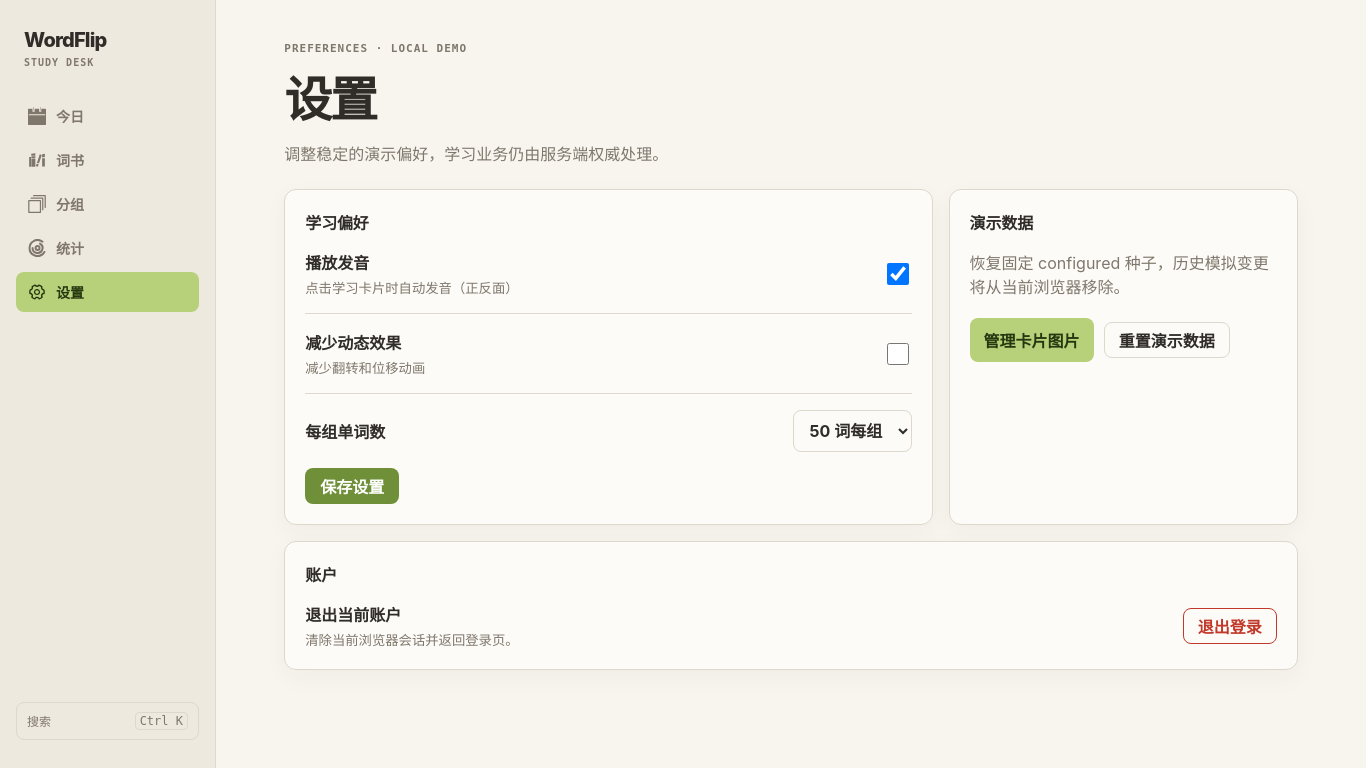
Test: 设置 › 明确确认后恢复 126、清除当前变更并导航今日
The width and height of the screenshot is (1366, 768).
Click the button "重置演示数据": (1167, 340) [1104,322,1230,358]
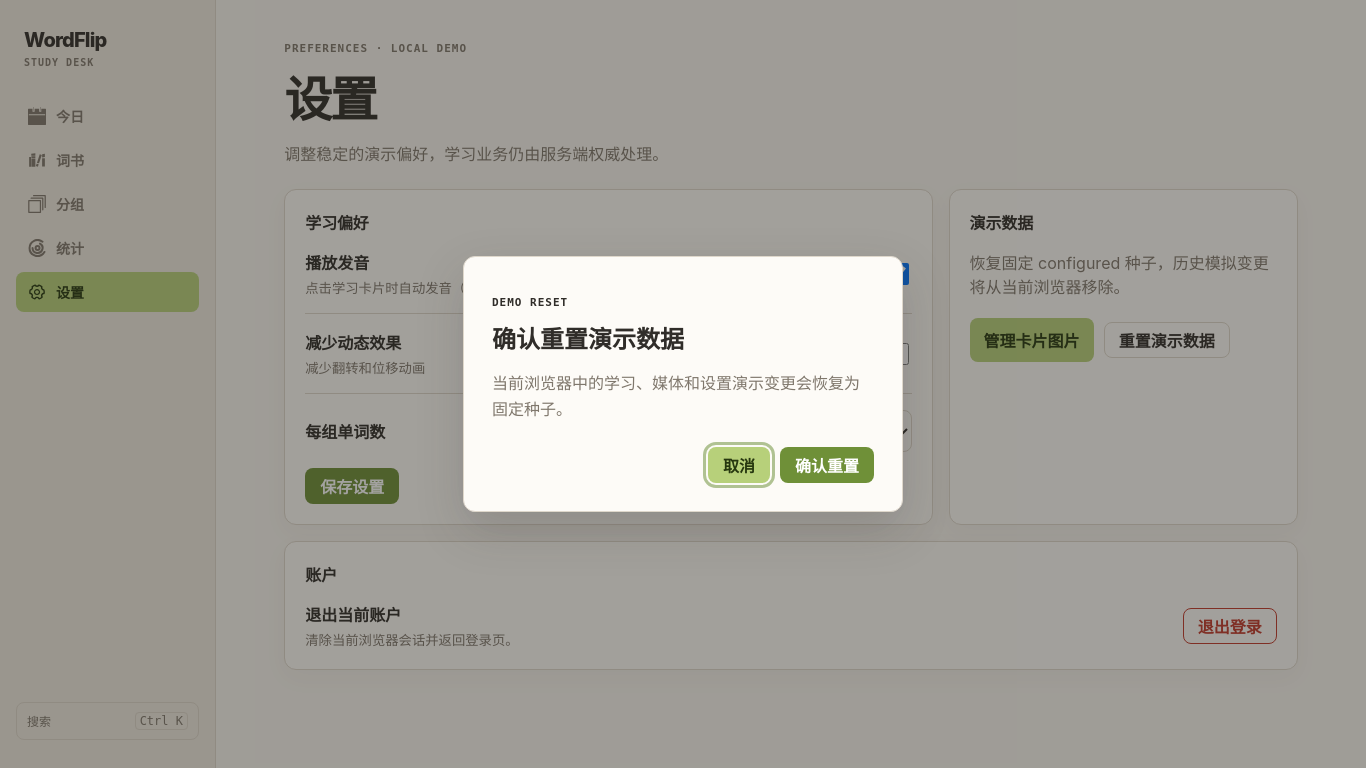
Click the button "确认重置": (827, 465) [780,447,874,483]
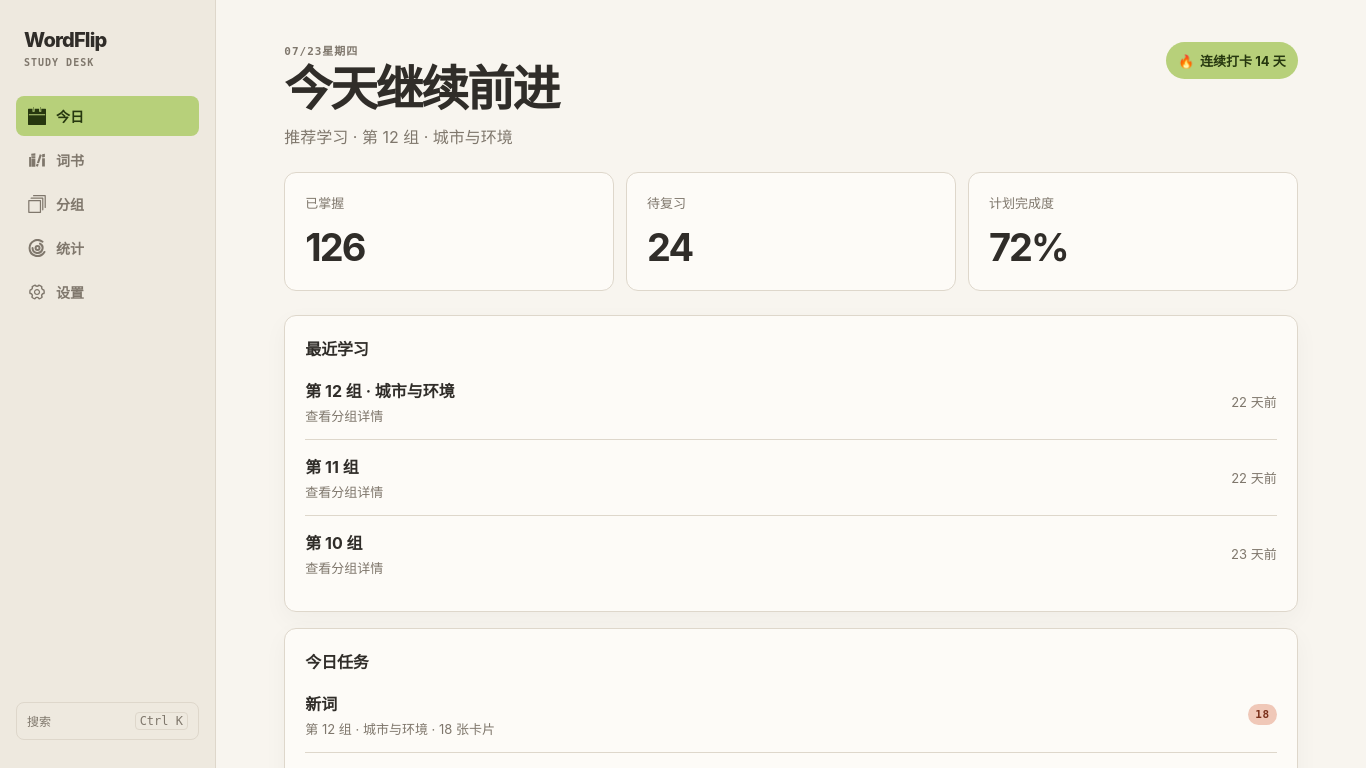
Now the heading "今天继续前进" is shown, box [284,64,558,114]
